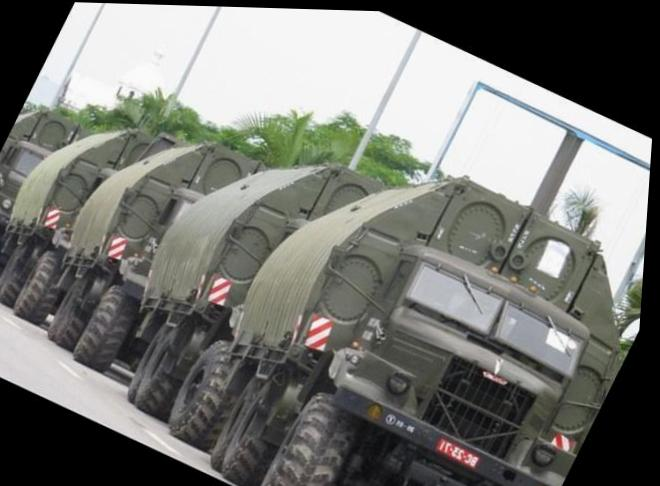License_Plate: (433, 433, 485, 477)
